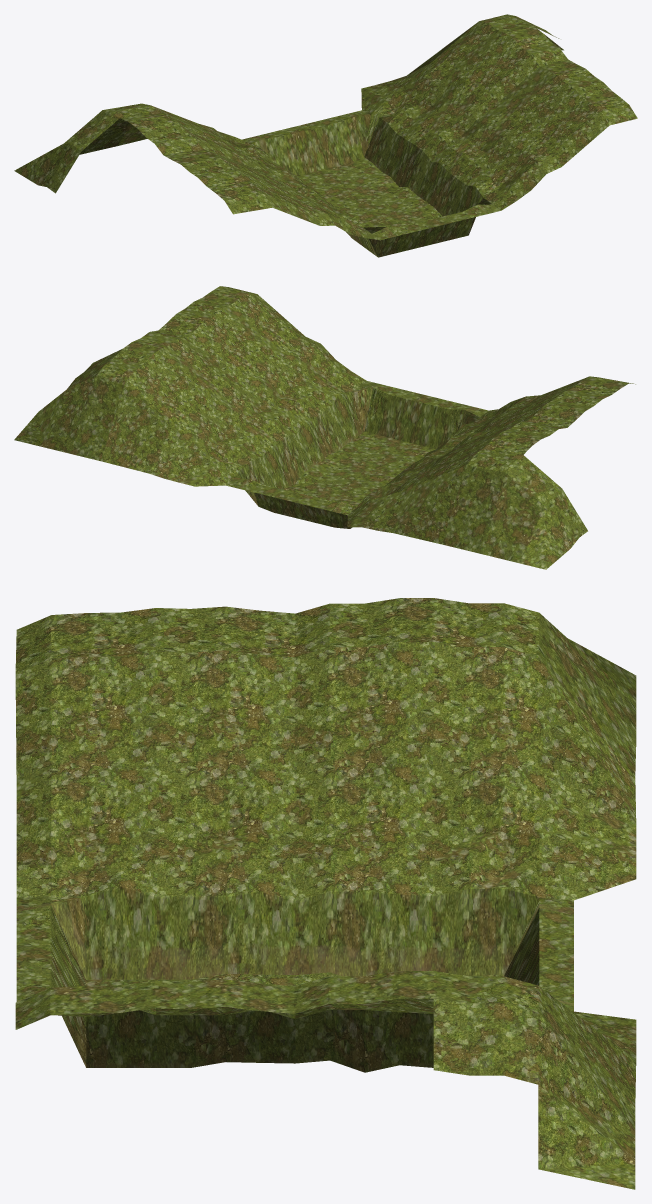
File: WaterLandscape.glb
3 renders of one model, top to bottom at view 1: azimuth 30°, elevation 25°; view 2: azimuth 150°, elevation 25°; view 3: azimuth 270°, elevation 25°, orthographic. The views are drawn at different scales.
Visible parts, largest first — view 1: Plane.002; view 2: Plane.002; view 3: Plane.002.
Part boxes in pixels (x1,y1,x2,y2): Plane.002: [14, 14, 637, 257]; Plane.002: [14, 286, 635, 569]; Plane.002: [15, 598, 636, 1189].
Bounding box in the file's own units: 32.58 × 6.73 × 16.64.
1 material, 1 textured.
